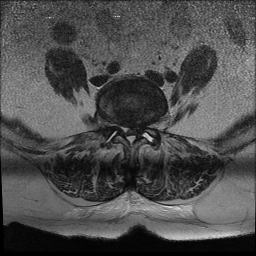CCS_normal: (127, 121, 133, 149)
LFS_severe_stenosis: (140, 115, 147, 135)
LLS_severe_stenosis: (133, 120, 140, 142)
RFS_severe_stenosis: (114, 114, 121, 136)
RLS_stenosis: (121, 119, 127, 142)
